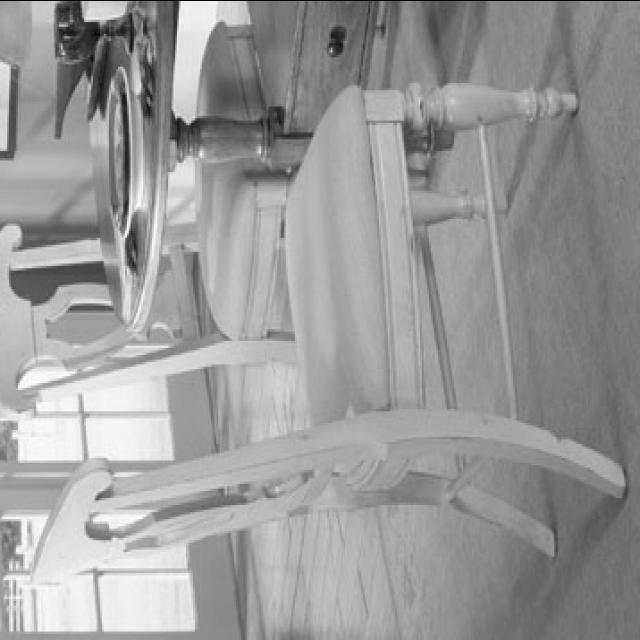chair: (29, 80, 630, 584), (0, 15, 429, 422)
